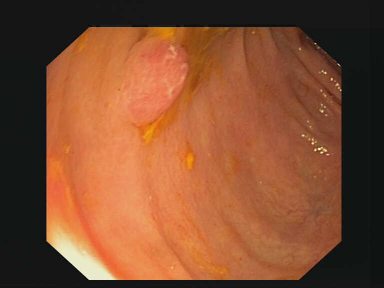polyp: (120, 33, 188, 132)
